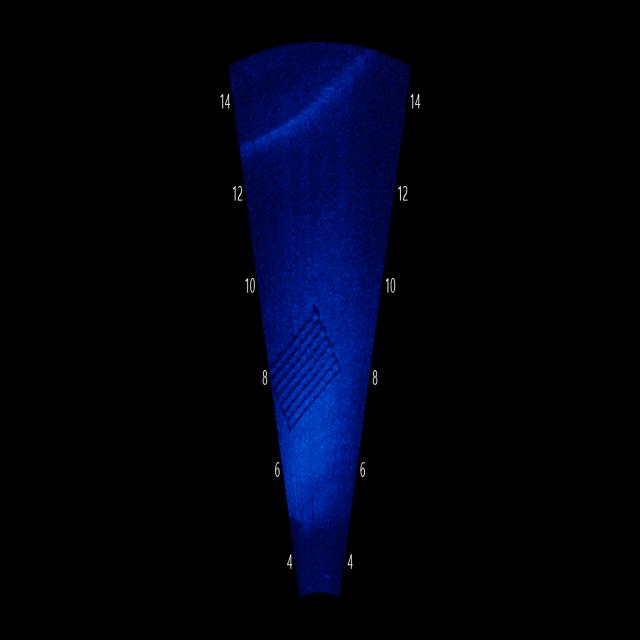square: (269, 296, 347, 438)
